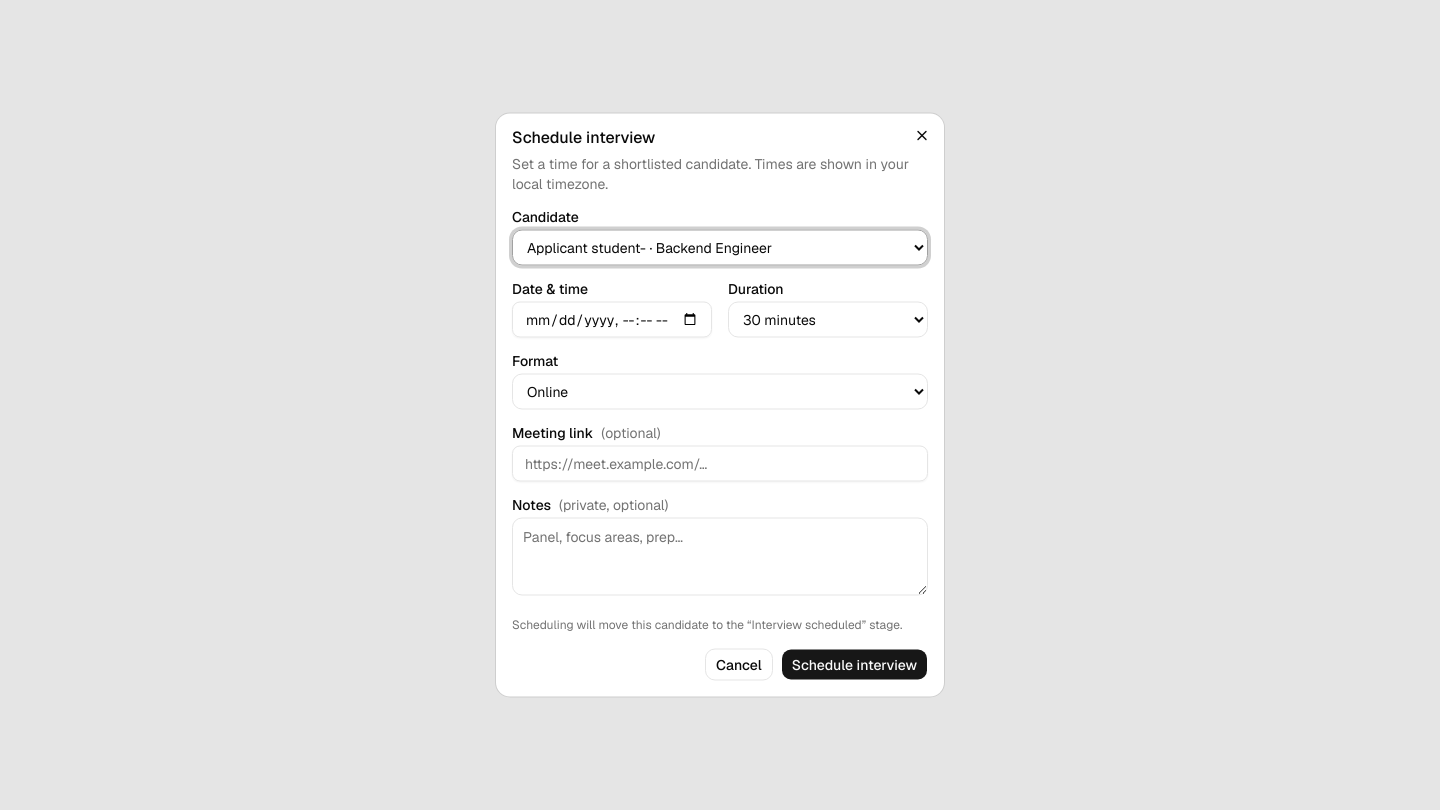
Test: InterviewFormDialog › rejects a past date/time client-side
In the field labelled "Date & time": (612, 320) [512,302,712,338], type "2000-01-01T09:00"
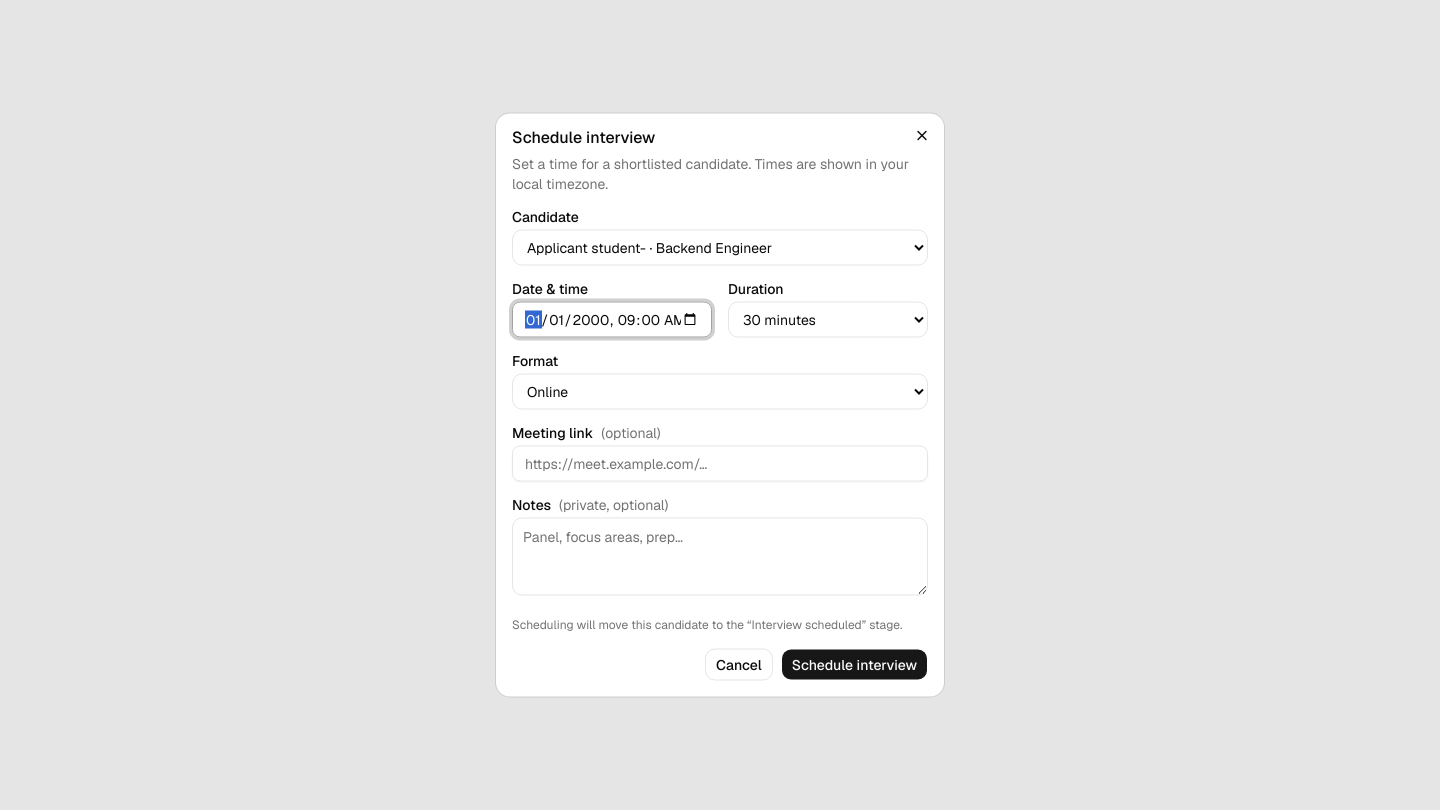
Click the button "Schedule interview": (854, 664) [781,648,928,680]
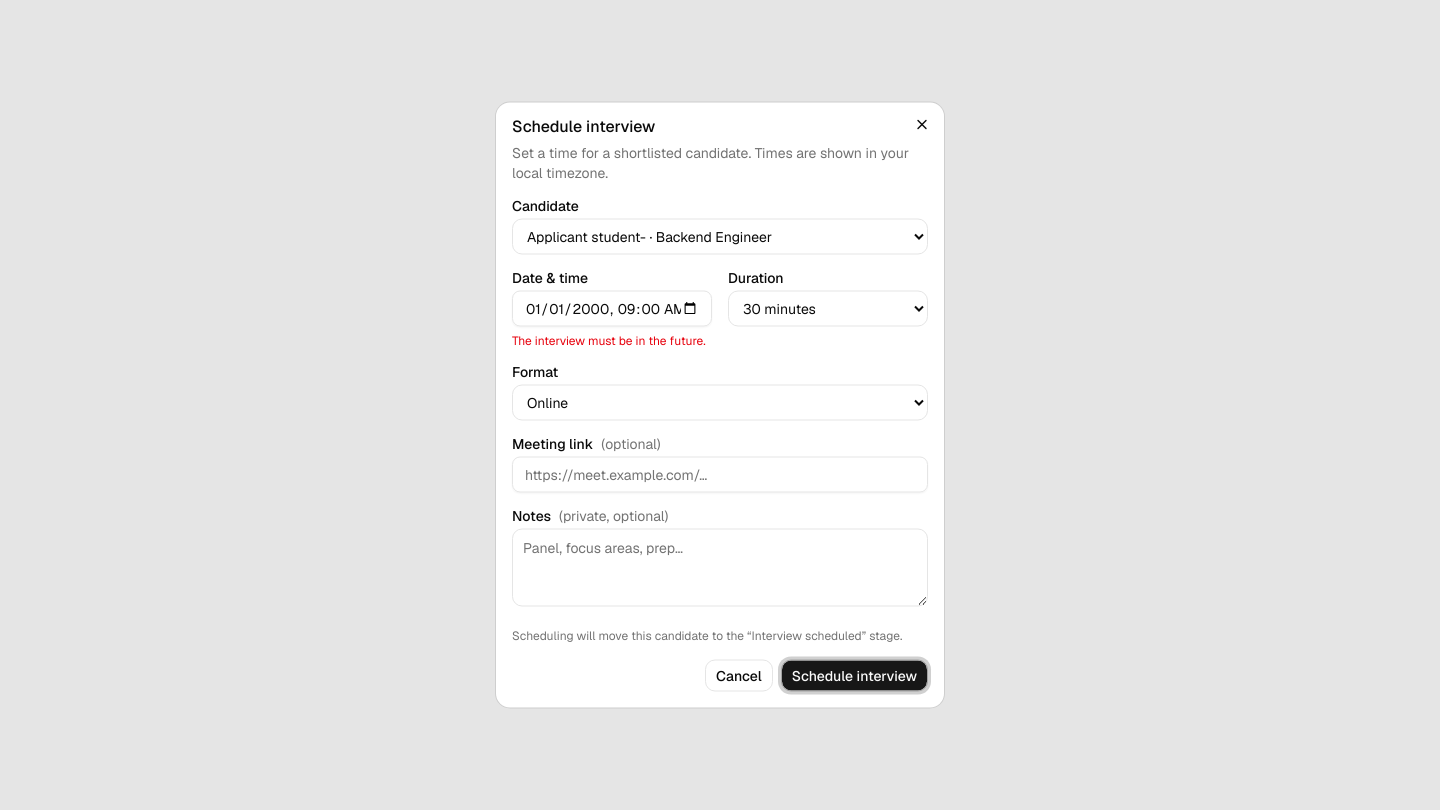
Result: the text "The interview must be in the future." is shown at [512,332,712,348]
